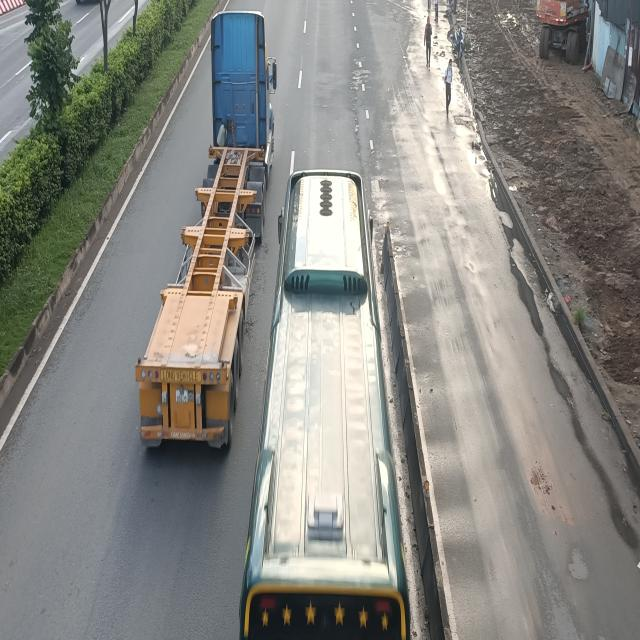coach: (240, 164, 414, 640)
container: (134, 14, 272, 458)
